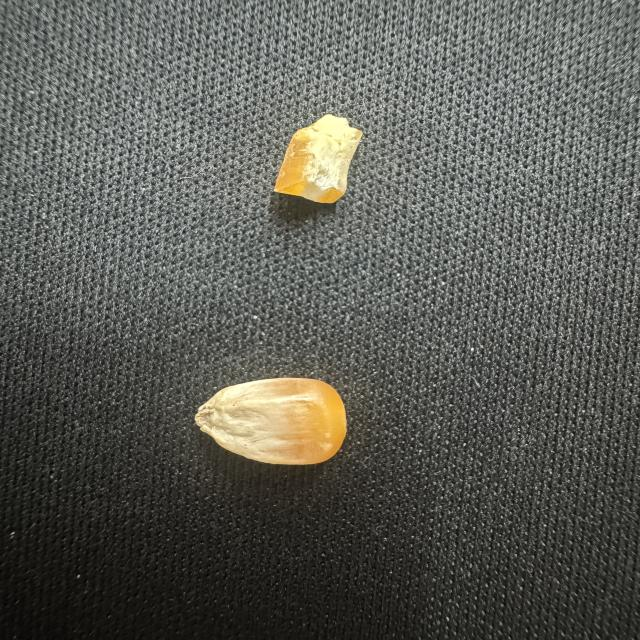Bad-Seed: (187, 367, 365, 484), (252, 110, 372, 215)
